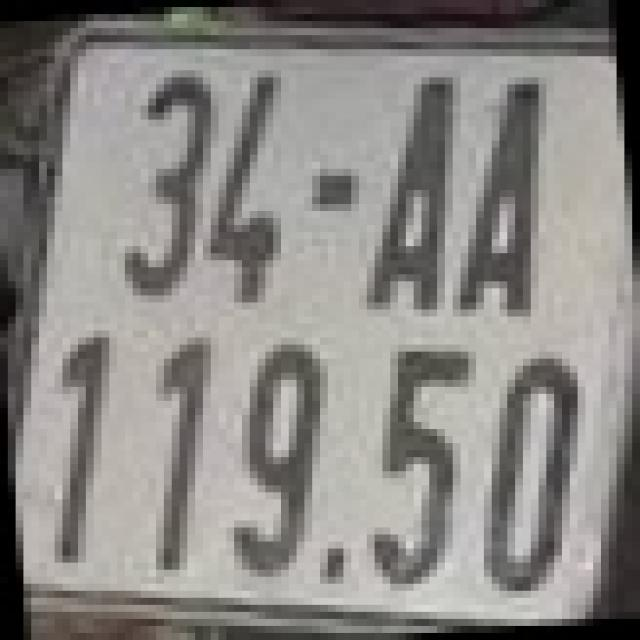0: (484, 358, 577, 590)
1: (47, 330, 117, 562), (148, 338, 211, 570)
3: (133, 77, 203, 296)
4: (211, 78, 281, 302)
5: (375, 344, 468, 584)
9: (234, 344, 320, 576)
A: (453, 78, 546, 316), (367, 78, 460, 310)
